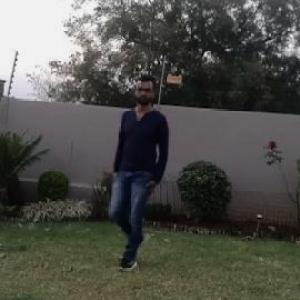follow: (118, 73, 184, 267)
